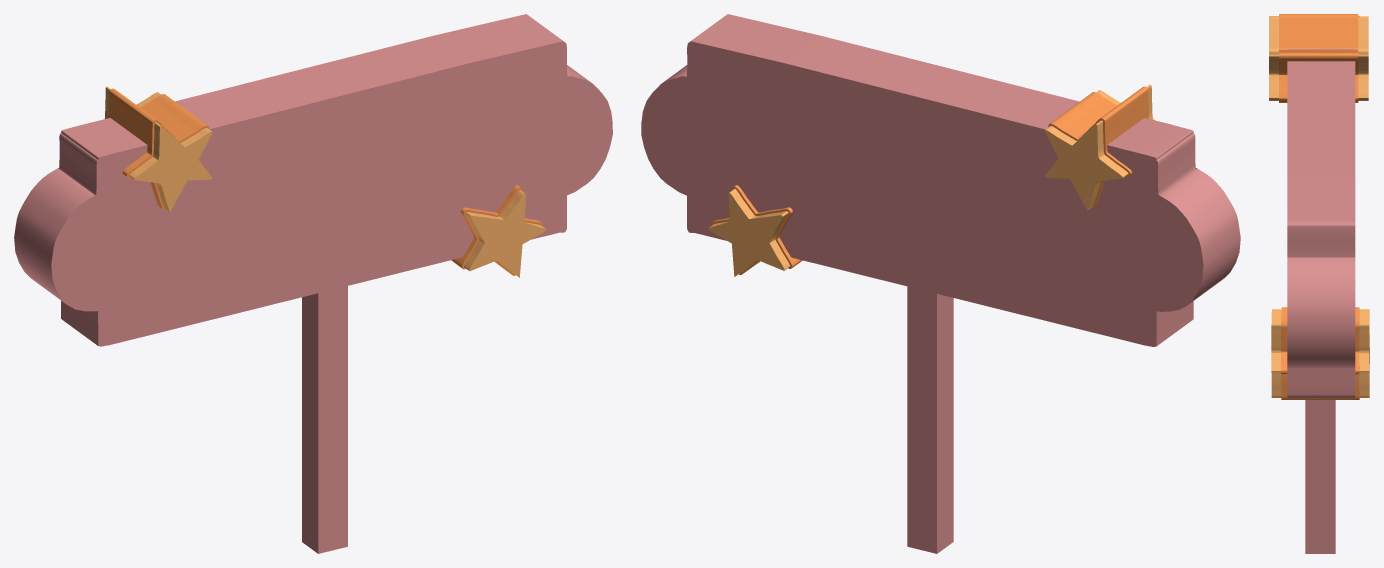
Rendered from Kyltti.fbx.
3 views of the same model, side by side, from view 1: azimuth 30°, elevation 25°; view 2: azimuth 150°, elevation 25°; view 3: azimuth 270°, elevation 25° (orthographic). The views are drawn at different scales.
Visible parts, largest first — view 1: Kyltti1; view 2: Kyltti1; view 3: Kyltti1.
Part boxes in pixels (x1,y1,x2,y2): Kyltti1: (14,14,612,553); Kyltti1: (641,14,1240,553); Kyltti1: (1269,14,1369,553).
Size of the model in its own units: 4.4 by 3.65 by 0.7467.
